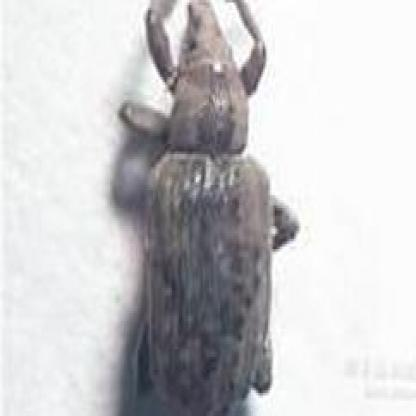rice-bug: (123, 0, 290, 416)
